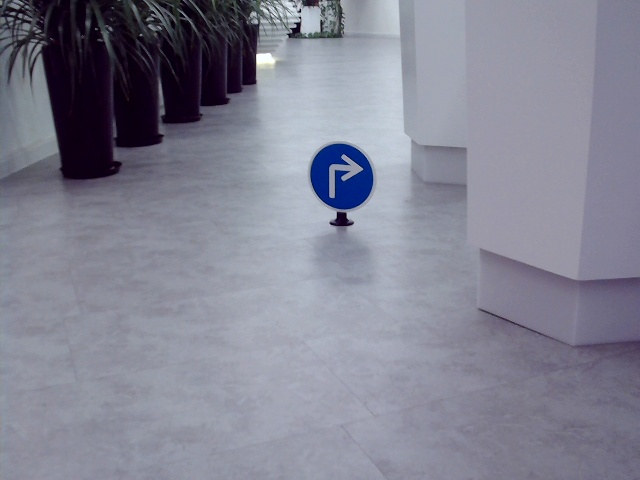turn_right: (319, 154, 363, 201)
